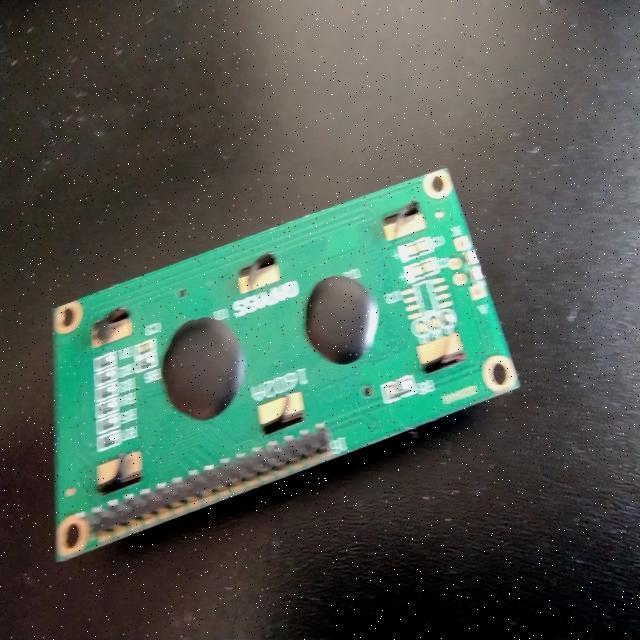lcd: (49, 166, 521, 562)
